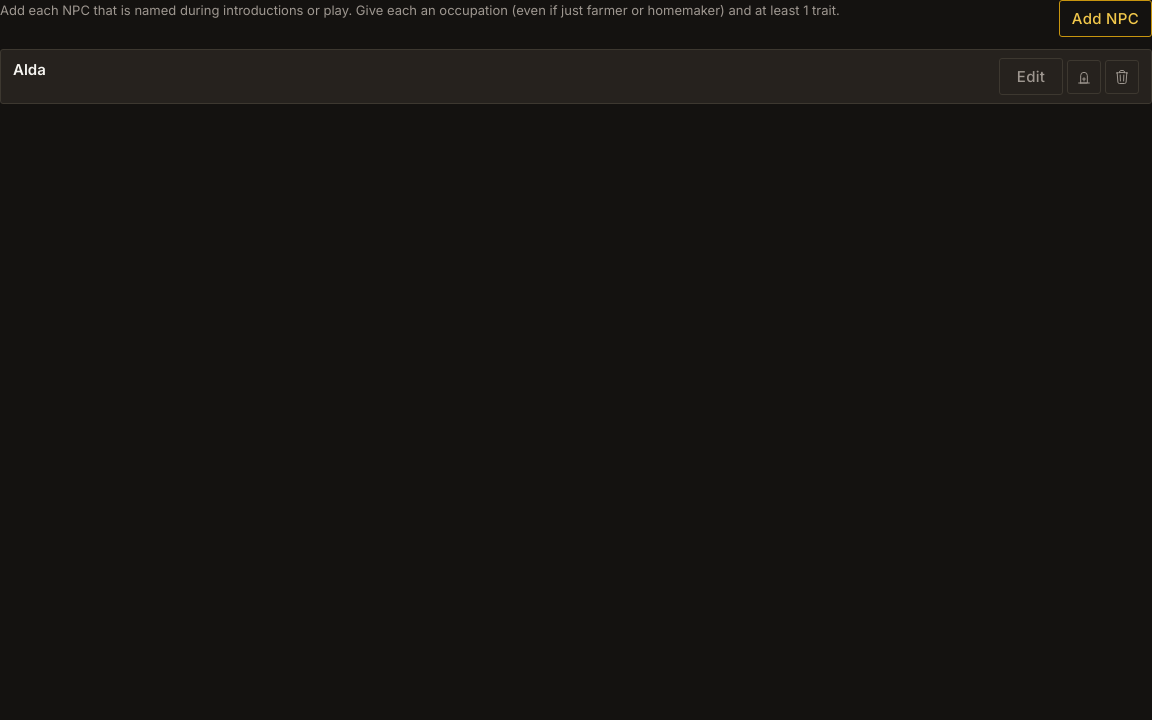
Scenario: SteadingNPCs mutations › edits an existing NPC in place, keeping its id
Click the button with aria-label "edit Alda".
click(1031, 76)  # box [999,58,1063,95]
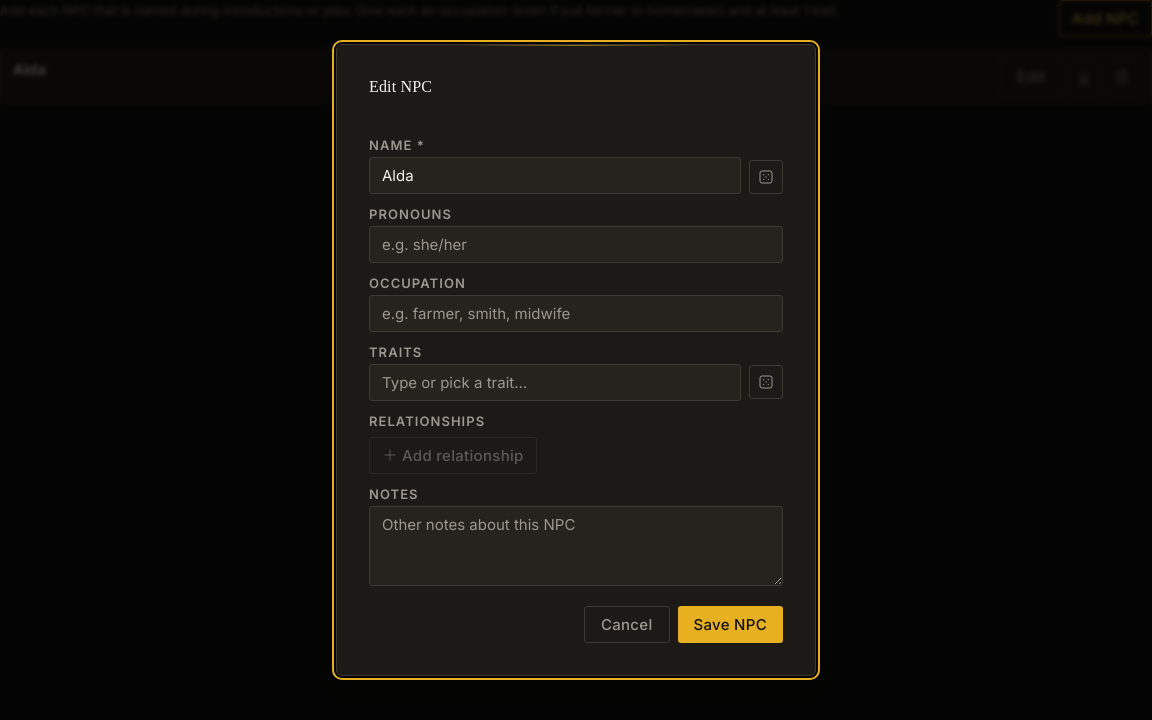
Replace the text in the field labelled "Name *" with "Aldara" at (555, 175), box [369,157,741,194]
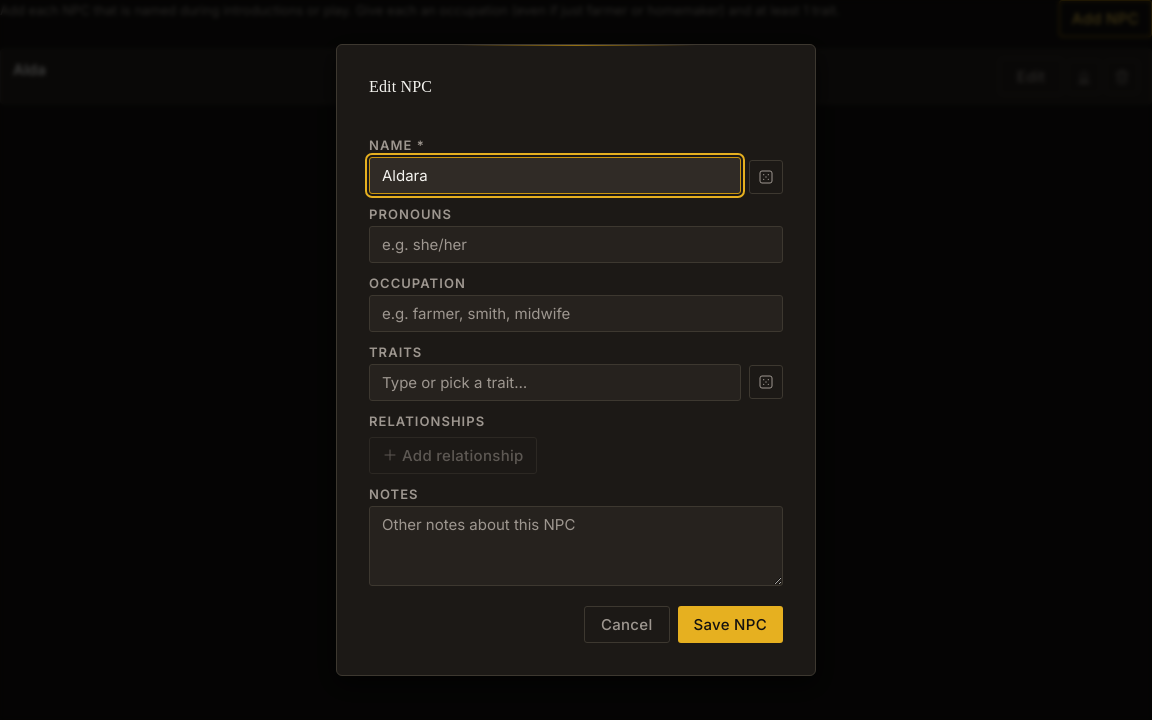
Click the button "Save NPC".
click(730, 624)  # box [678,606,783,643]
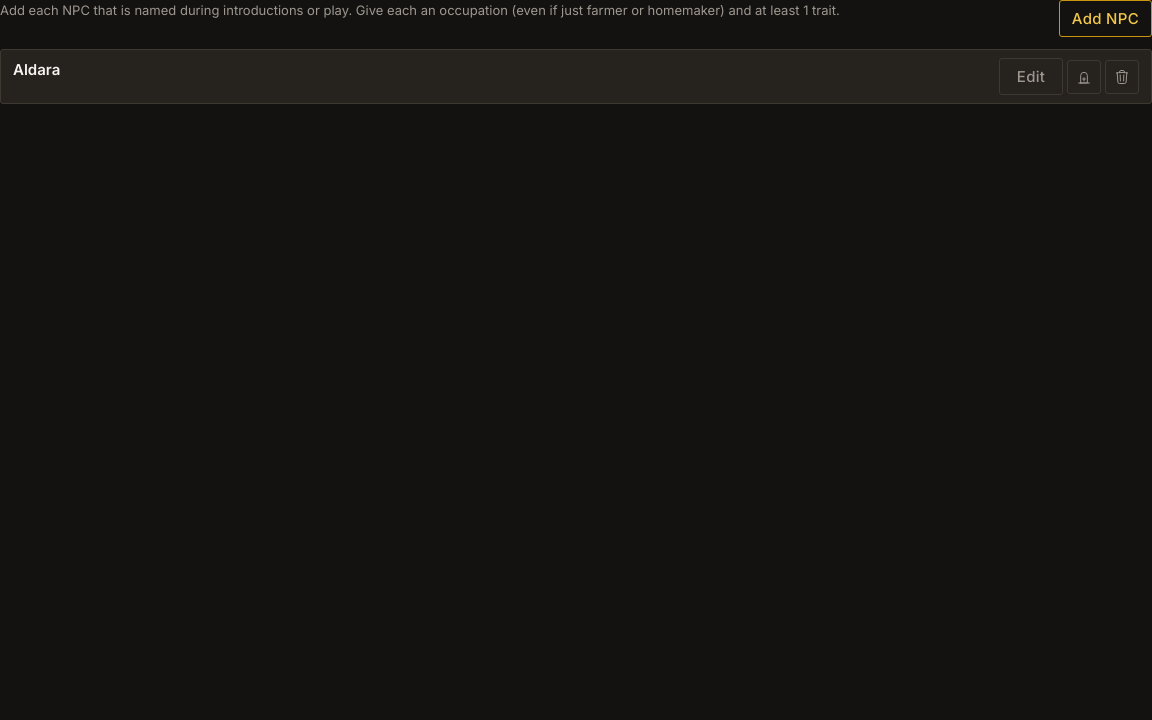
Check: the text "Aldara" is shown, box [13,60,60,79]
